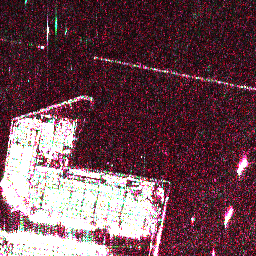ship: (235, 156, 250, 177), (221, 206, 235, 226)
